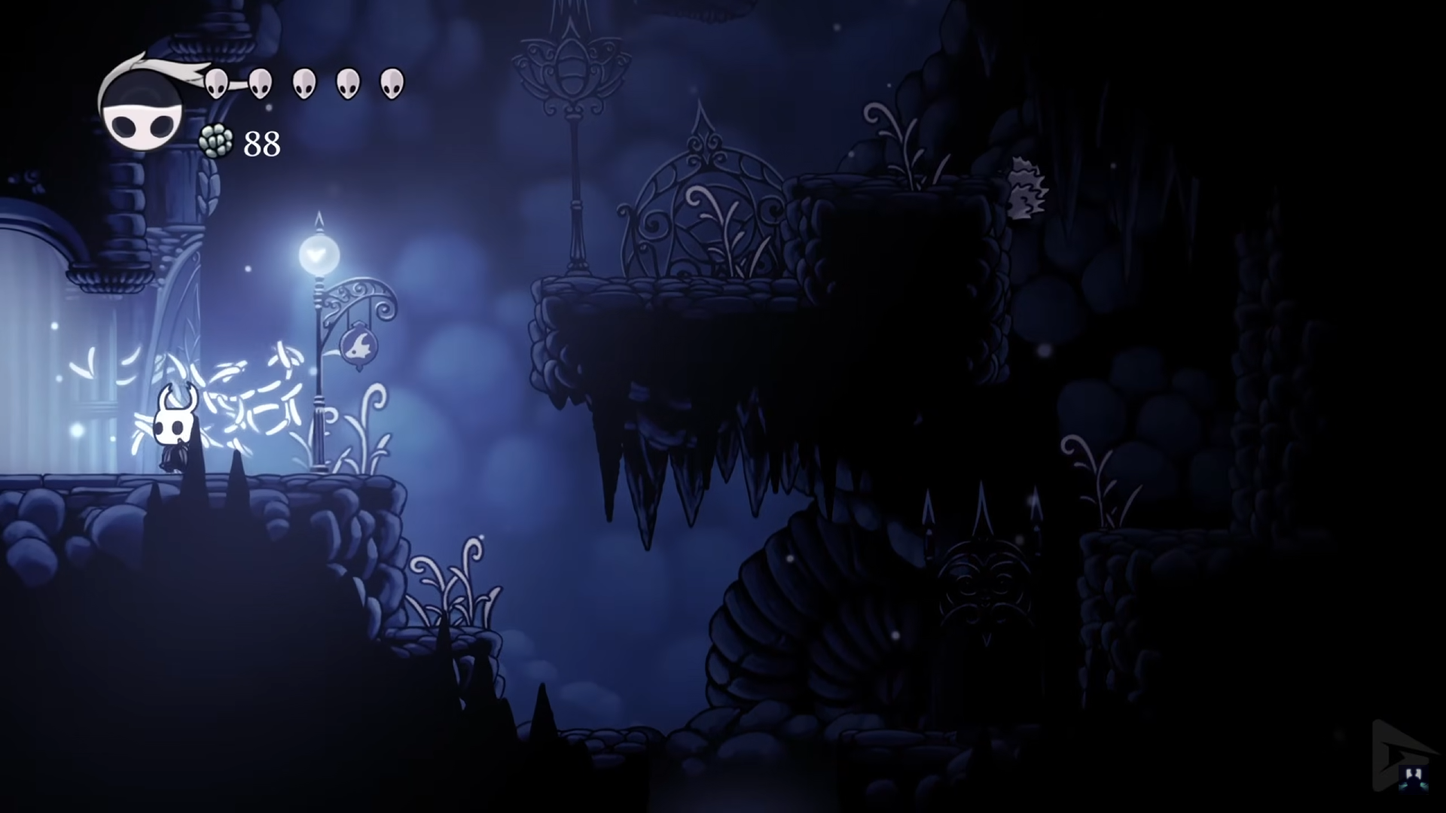HK: (145, 379, 201, 472)
